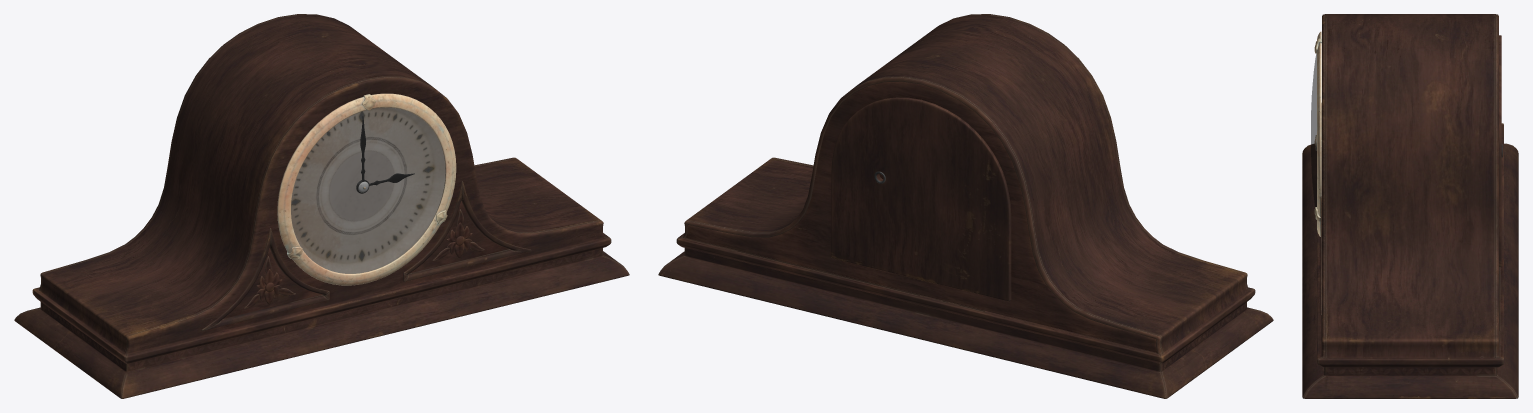
File: mantel_clock_01_lod1.glb
3 renders of one model, left to right at view 1: azimuth 30°, elevation 25°; view 2: azimuth 150°, elevation 25°; view 3: azimuth 270°, elevation 25°, orthographic.
Parts seen in each view (by area): view 1: mantel_clock_01, mantel_clock_01_glass; view 2: mantel_clock_01; view 3: mantel_clock_01, mantel_clock_01_glass.
Boxes of the visible parts, x1=… form: mantel_clock_01: x1=14, y1=14, x2=629, y2=398; mantel_clock_01_glass: x1=291, y1=107, x2=445, y2=273; mantel_clock_01: x1=658, y1=14, x2=1273, y2=398; mantel_clock_01: x1=1302, y1=14, x2=1518, y2=398; mantel_clock_01_glass: x1=1311, y1=53, x2=1316, y2=206.
Bounding box in the file's own units: 0.3423 × 0.1605 × 0.1262.
2 materials, 2 textured.
